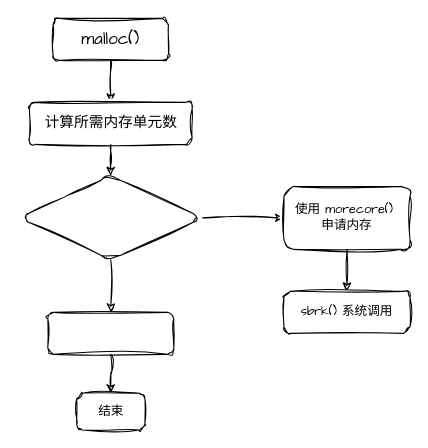
This 428x448 diagram has some shape labels left out. The shapes that lost their labels are listed below. From the top down, each one's box as (x1, y1, x2, y2) in pixels, then its label:
(18, 175, 203, 260): 遍历空闲链表查找
(47, 311, 174, 354): 返回空闲内存地址
